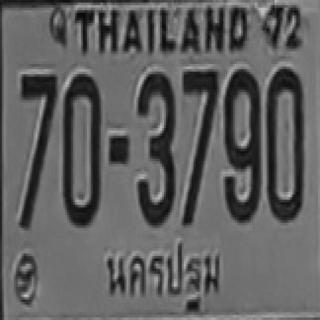N00: (62, 73, 100, 224), (265, 66, 302, 220), (223, 67, 259, 164)
N03: (136, 72, 174, 225)
N07: (20, 72, 57, 177), (21, 72, 56, 166), (182, 69, 217, 161), (182, 69, 217, 151)
N09: (223, 72, 259, 220), (222, 87, 260, 220)
P28: (100, 236, 225, 315)
